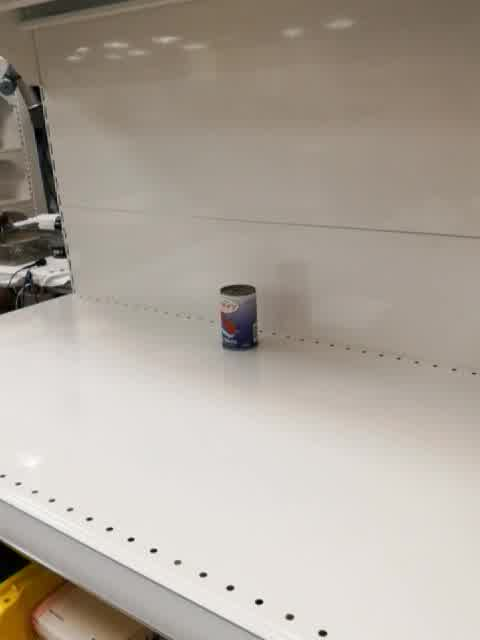sardine: (219, 283, 261, 351)
